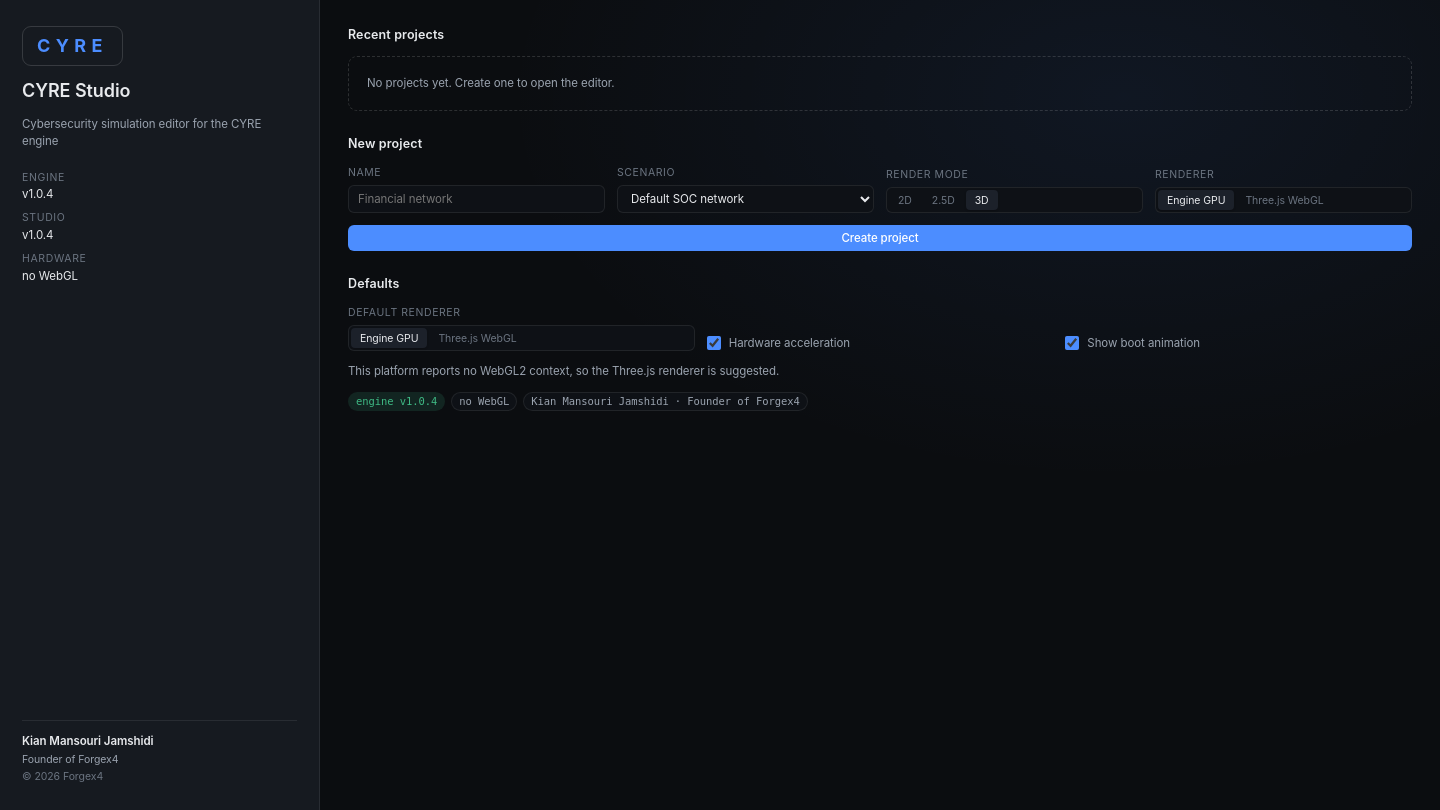
it: LauncherApp › rejects a blank project name with a visible error
The image size is (1440, 810).
What coordinates should you click on to do the following:
click the button with test id "launcher-create"
I would click on:
 (880, 238)
Its box is top-left (348, 225), bottom-right (1412, 251).
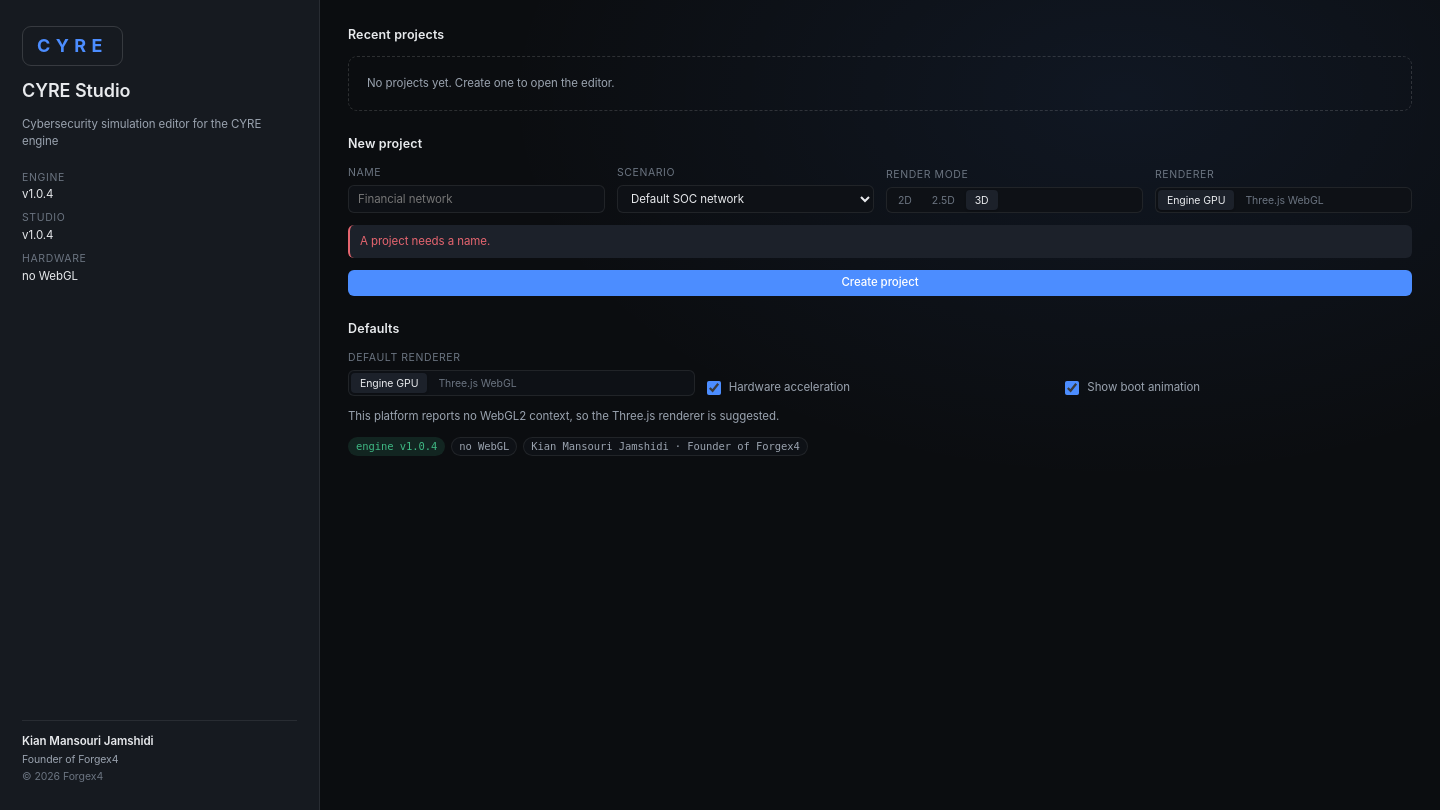
Now the message with test id "launcher-error" shows "needs a name", box top-left (360, 234), bottom-right (490, 248)
